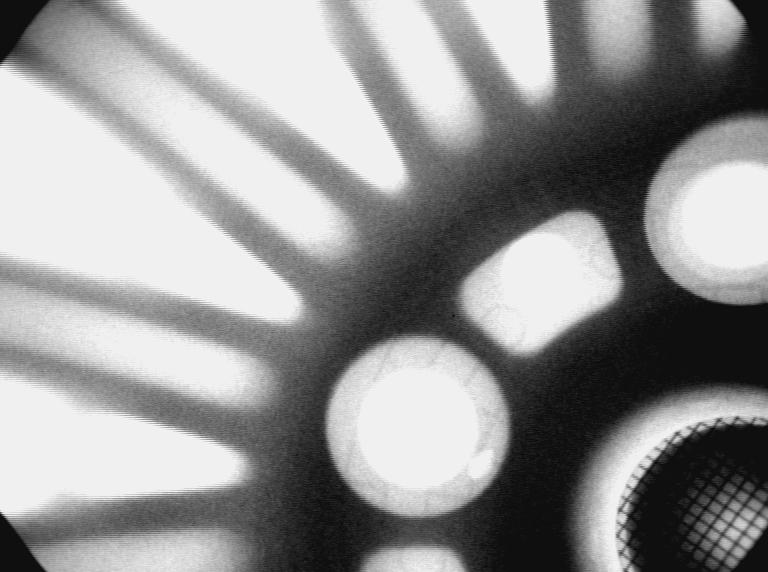defect: (466, 447, 499, 483)
